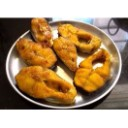seerfish: (16, 66, 76, 104), (75, 47, 111, 94), (59, 24, 102, 51), (17, 38, 55, 67), (55, 35, 77, 71), (31, 17, 54, 45)
